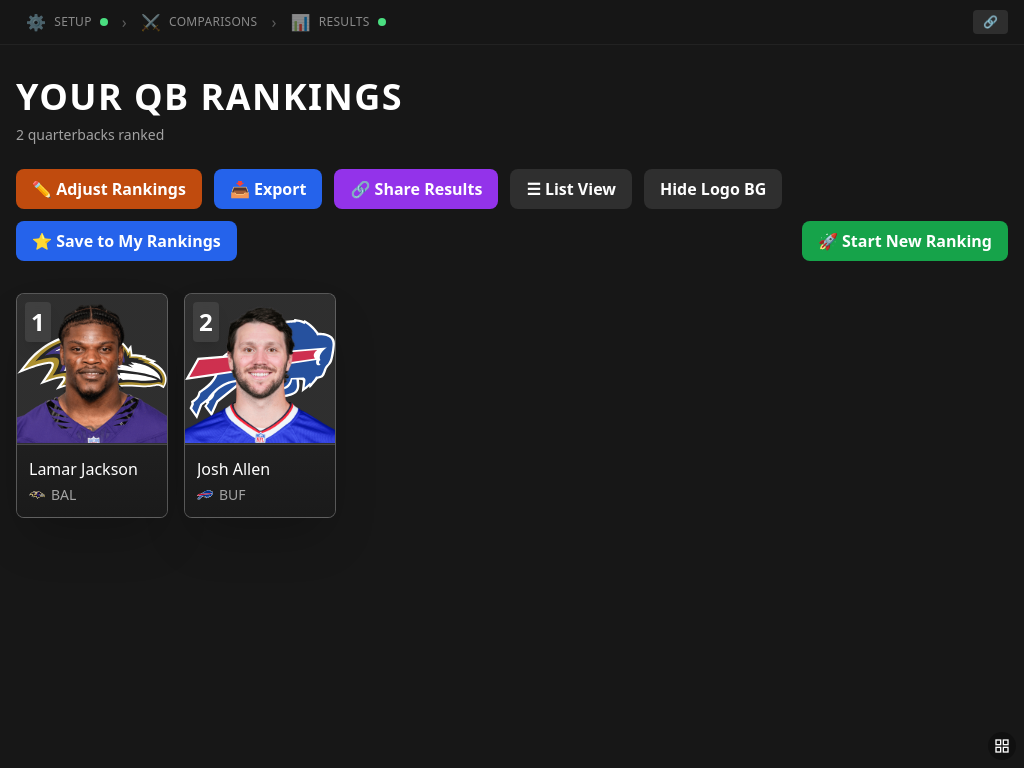
Test case: Ranker results → personal rankings › does nothing if the confirmation is declined
Click the button "⭐ Save to My Rankings" at (126, 241), box [16,221,237,261]
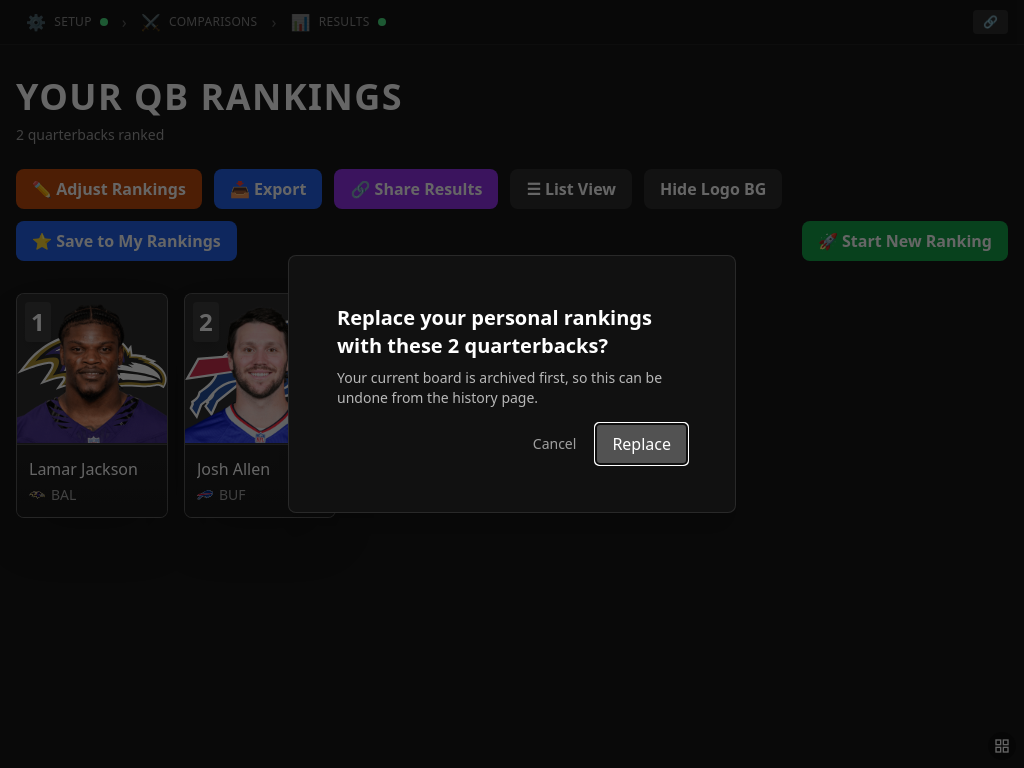
Click the button "Cancel" at (555, 444), box [521,424,588,464]
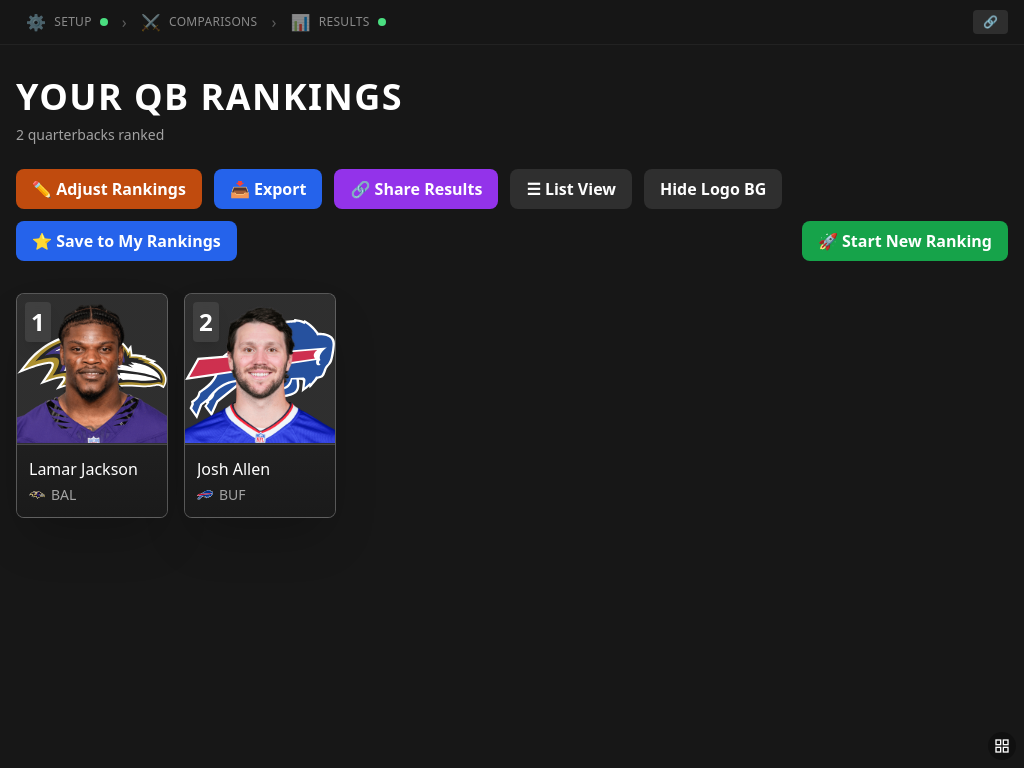
Check: the heading "Replace" is gone
